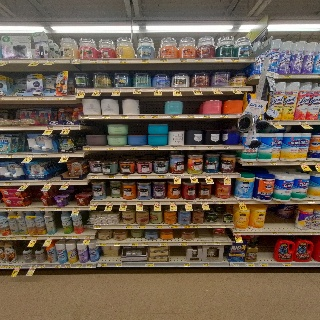All PRICE TAGS: (0, 59, 10, 64), (258, 263, 269, 267), (157, 242, 168, 246), (281, 263, 291, 267), (96, 242, 106, 246), (145, 262, 154, 266), (90, 175, 99, 179), (54, 96, 63, 100), (16, 96, 25, 100), (31, 59, 40, 63), (118, 59, 127, 63), (159, 59, 168, 63), (283, 74, 292, 78), (101, 59, 110, 63), (112, 88, 121, 92), (169, 114, 178, 118), (7, 264, 14, 269), (244, 263, 255, 266), (127, 243, 138, 246), (114, 262, 122, 266), (99, 263, 107, 267), (121, 175, 129, 179), (107, 175, 115, 179), (6, 154, 14, 158), (63, 126, 71, 130), (36, 96, 44, 100), (47, 59, 55, 63), (238, 200, 246, 204), (4, 208, 12, 212), (22, 182, 30, 186), (62, 181, 70, 185), (72, 59, 80, 63), (141, 58, 149, 62), (180, 58, 188, 62), (195, 58, 203, 62), (151, 146, 159, 150), (170, 146, 178, 150), (215, 58, 223, 62), (231, 58, 239, 62), (93, 88, 101, 92), (193, 87, 201, 91), (212, 87, 220, 91), (120, 115, 128, 119), (106, 146, 114, 150), (170, 225, 180, 228), (202, 262, 209, 266), (183, 262, 190, 266), (169, 201, 176, 205), (120, 201, 127, 205), (141, 175, 148, 179), (223, 145, 230, 149), (207, 145, 214, 149), (62, 153, 69, 157), (76, 264, 83, 268), (84, 235, 91, 239), (20, 236, 27, 240), (54, 207, 61, 211), (45, 181, 52, 185), (130, 146, 137, 150), (81, 115, 88, 119), (103, 115, 110, 119), (138, 114, 145, 118), (151, 114, 158, 118), (203, 114, 210, 118), (84, 146, 91, 150), (179, 242, 188, 245), (153, 225, 162, 228), (137, 225, 146, 228), (124, 225, 133, 228), (158, 175, 167, 178), (269, 162, 278, 165), (77, 89, 86, 92), (185, 225, 193, 228), (184, 201, 192, 204), (153, 201, 161, 204), (173, 175, 181, 178), (4, 182, 12, 185), (271, 121, 279, 124), (314, 161, 320, 165), (298, 162, 306, 165), (247, 162, 255, 165), (307, 200, 315, 203), (310, 232, 318, 235), (231, 263, 239, 266), (114, 242, 120, 246), (299, 121, 307, 124), (1, 265, 7, 269), (15, 264, 21, 268), (86, 264, 92, 268), (32, 236, 38, 240), (72, 207, 80, 210), (55, 264, 61, 268), (90, 59, 98, 62), (189, 146, 197, 149), (134, 88, 142, 91), (154, 88, 162, 91), (173, 88, 181, 91), (231, 87, 239, 90), (186, 114, 194, 117), (220, 225, 227, 228), (214, 241, 221, 244), (219, 201, 226, 204), (201, 201, 208, 204), (136, 201, 143, 204), (107, 202, 114, 205), (223, 174, 230, 177), (204, 175, 211, 178), (190, 175, 197, 178), (41, 154, 48, 157), (26, 154, 33, 157), (46, 126, 53, 129), (234, 232, 241, 235), (271, 232, 278, 235), (286, 232, 293, 235), (200, 242, 207, 245), (64, 264, 71, 267), (38, 265, 45, 268), (71, 236, 78, 239), (61, 236, 68, 239), (46, 236, 53, 239), (0, 237, 7, 240), (39, 208, 46, 211), (221, 114, 228, 117), (31, 264, 36, 268), (92, 202, 98, 205), (142, 242, 148, 245), (10, 237, 16, 240), (274, 202, 281, 204)
